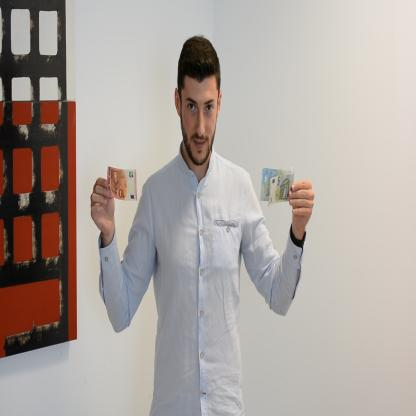billete: (259, 165, 293, 206), (107, 166, 138, 202)
